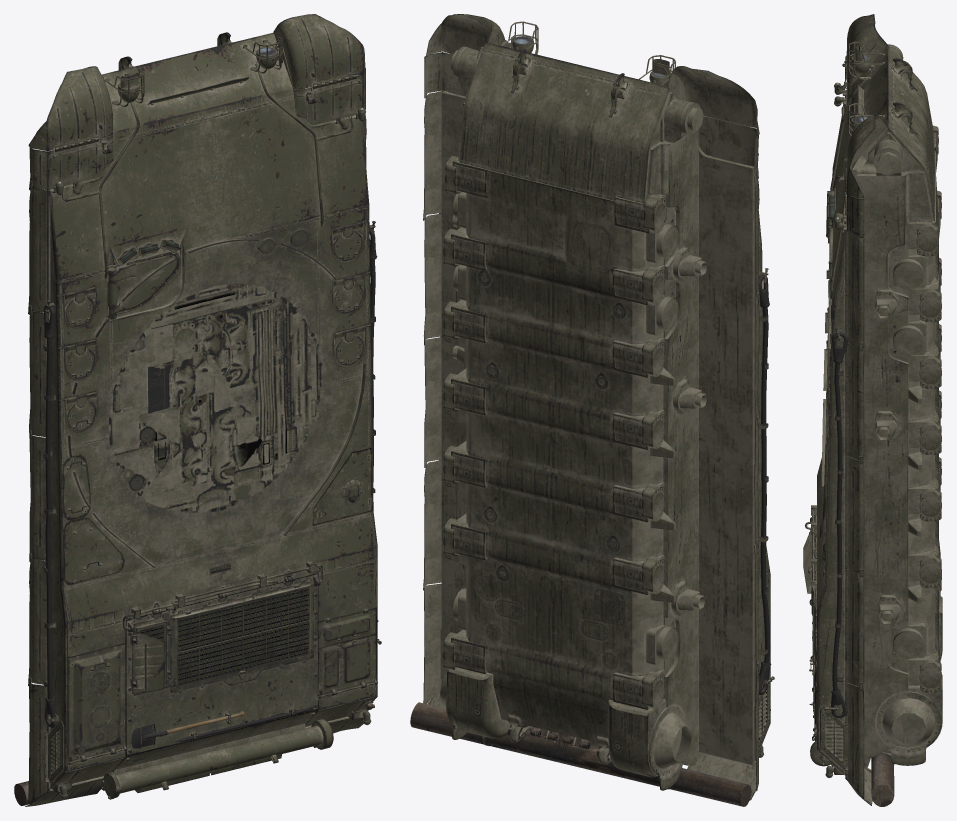
Rendered from Hull.glb.
The picture shows the model from 3 angles, left to right: view 1: azimuth 30°, elevation 25°; view 2: azimuth 150°, elevation 25°; view 3: azimuth 270°, elevation 25°; orthographic projection. The views are drawn at different scales.
Visible parts, largest first — view 1: set_0_group_0; view 2: set_0_group_0; view 3: set_0_group_0.
Boxes of the visible parts, <box> form: set_0_group_0: <box>14,14,381,806</box>; set_0_group_0: <box>410,14,774,806</box>; set_0_group_0: <box>803,14,942,806</box>.
Bounding box in the file's own units: 3.42 × 7.04 × 1.34.
Materials: 1 (1 with a texture image).
